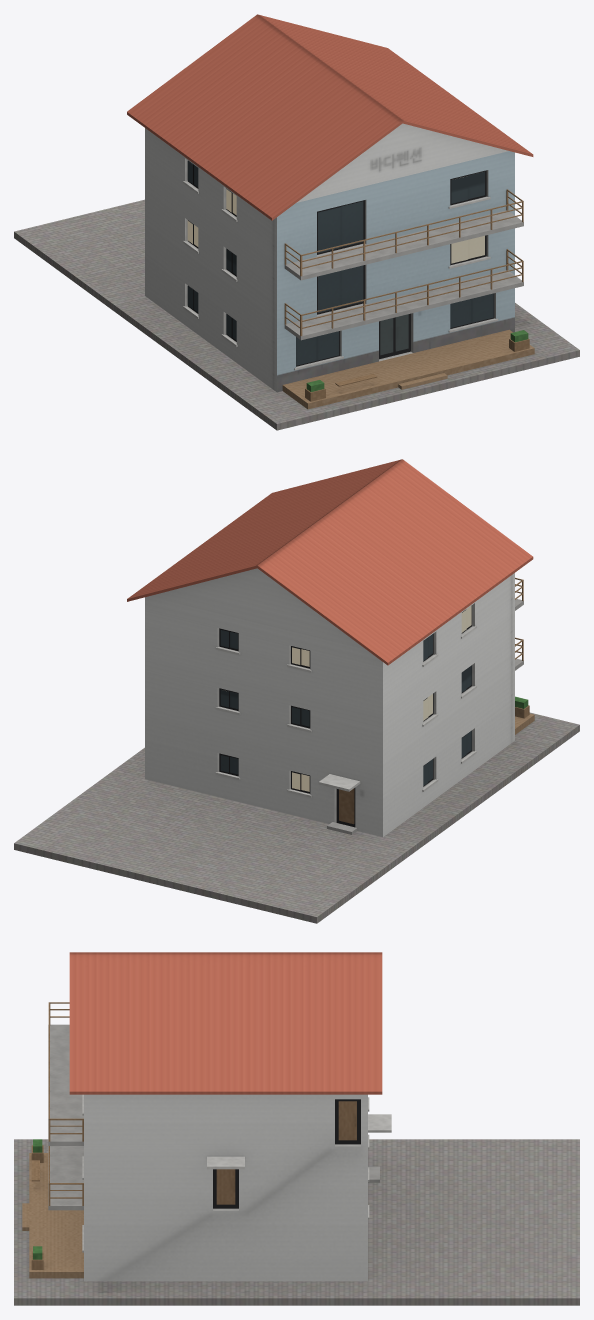
The model's file is IlsanPension01_LOD2.fbx.
The picture shows the model from 3 angles, top to bottom: view 1: azimuth 30°, elevation 25°; view 2: azimuth 150°, elevation 25°; view 3: azimuth 270°, elevation 25°; orthographic projection. The views are drawn at different scales.
Parts seen in each view (by area): view 1: IlsanPension01_LOD2; view 2: IlsanPension01_LOD2; view 3: IlsanPension01_LOD2.
Boxes of the visible parts, x1,y1,x2,y2 form: IlsanPension01_LOD2: [14, 14, 579, 430]; IlsanPension01_LOD2: [14, 459, 579, 923]; IlsanPension01_LOD2: [14, 952, 579, 1305].
Bounding box in the file's own units: 15.9 × 12.74 × 23.9.
Materials: 1 (1 with a texture image).
